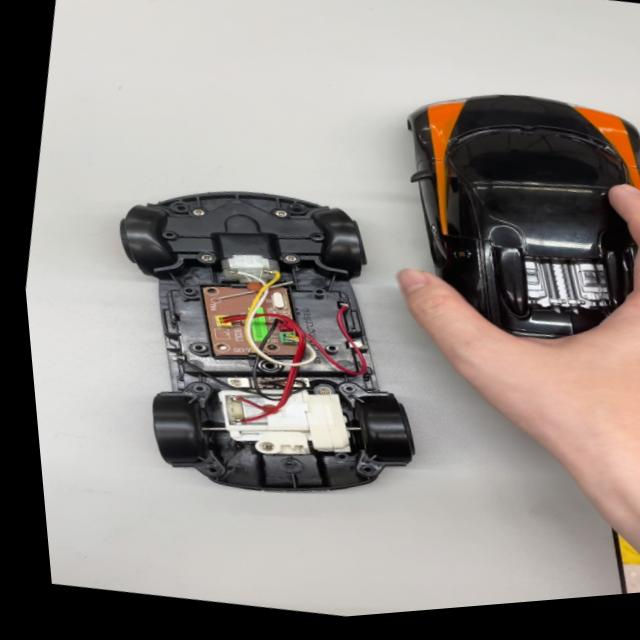Chassis: (67, 148, 460, 539)
vehicle_body: (353, 53, 640, 415)
